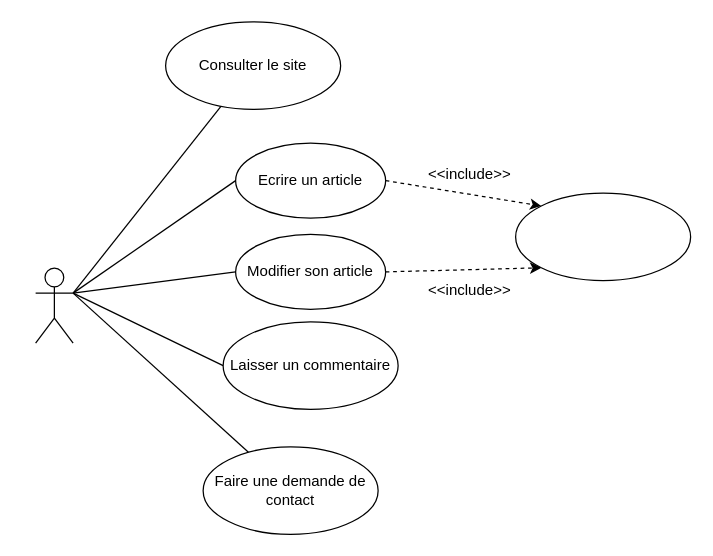
Some shapes in this 713 by 556 pixel diagram are drawn without their labels. Each missing label, with the box of its shape:
S'authentifier: (514, 192, 691, 281)
Utilisateur: (34, 267, 73, 343)
